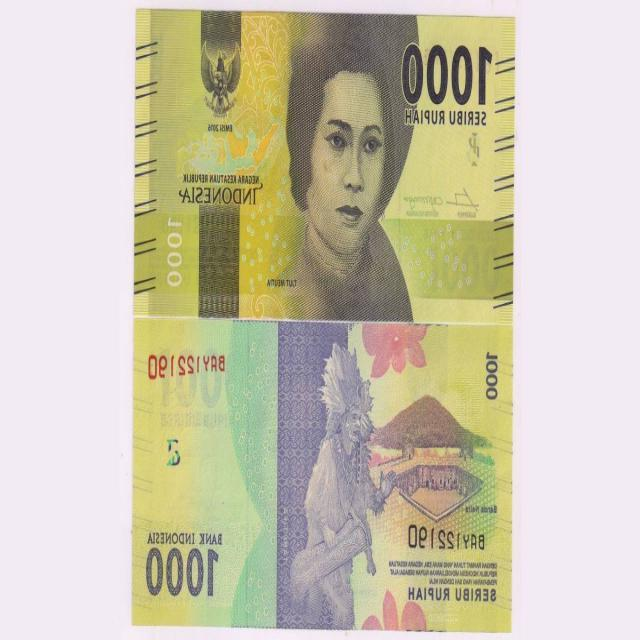seribu rupiah: (133, 326, 510, 630), (133, 18, 515, 316)
